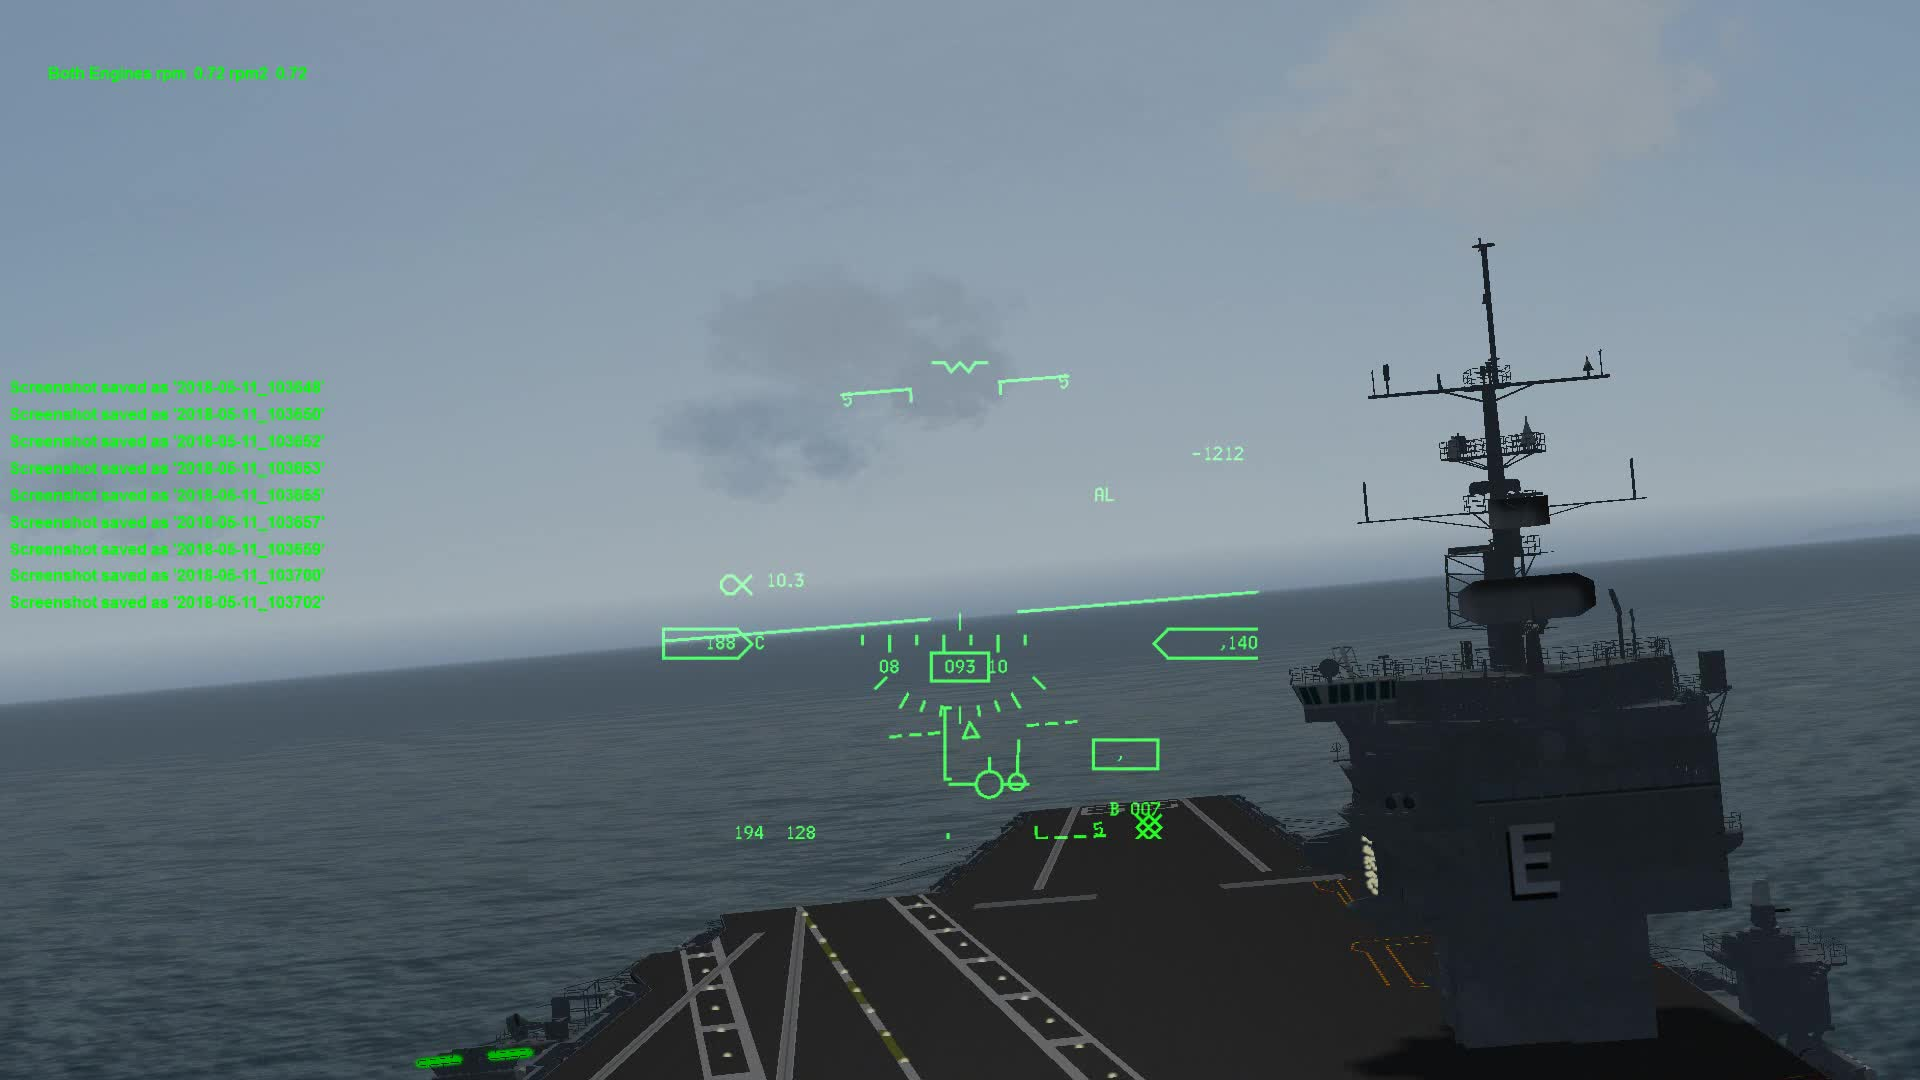speed vector: (949, 756, 1054, 803)
